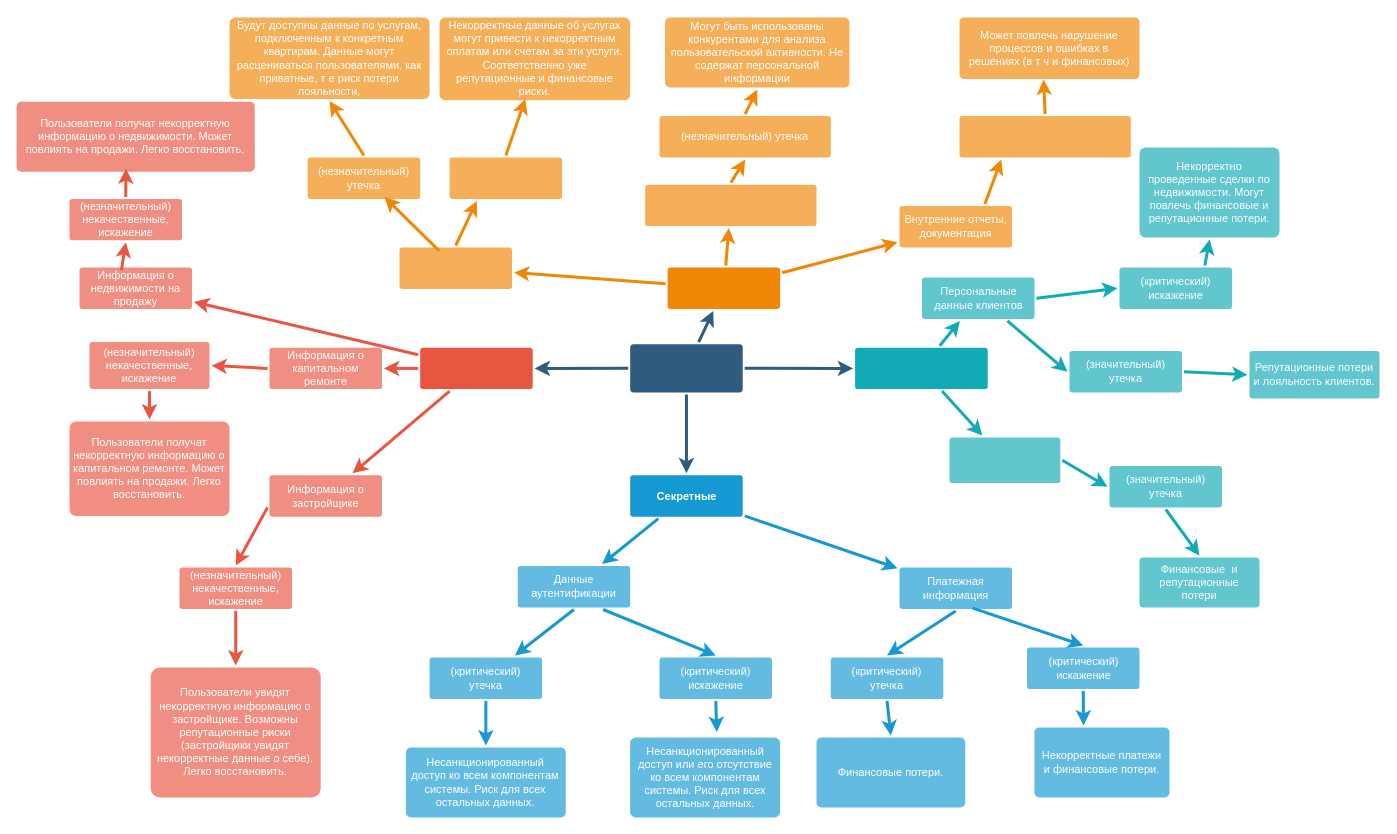
This 1397x834 diagram has some shape labels left out. The centre of each missing label's shape, as x and y in pixels:
"(значительный) искажение" goes at point (505, 177).
"(значительный) искажение, некачественные данные" goes at point (1044, 136).
"Безопасность данных" goes at point (686, 368).
"Внутренние" goes at point (723, 287).
"Данные об услугах ЖКУ" goes at point (455, 267).
"Информация о сделках" goes at point (1004, 460).
"Конфиденциальные" goes at point (921, 368).
"Публичные" goes at point (476, 368).
"Статистические данные о пользовательской активности" goes at point (730, 205).
